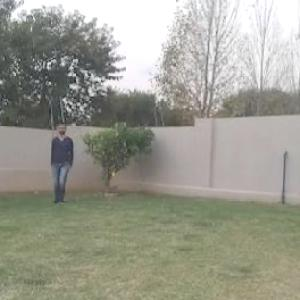follow: (49, 118, 71, 210)
